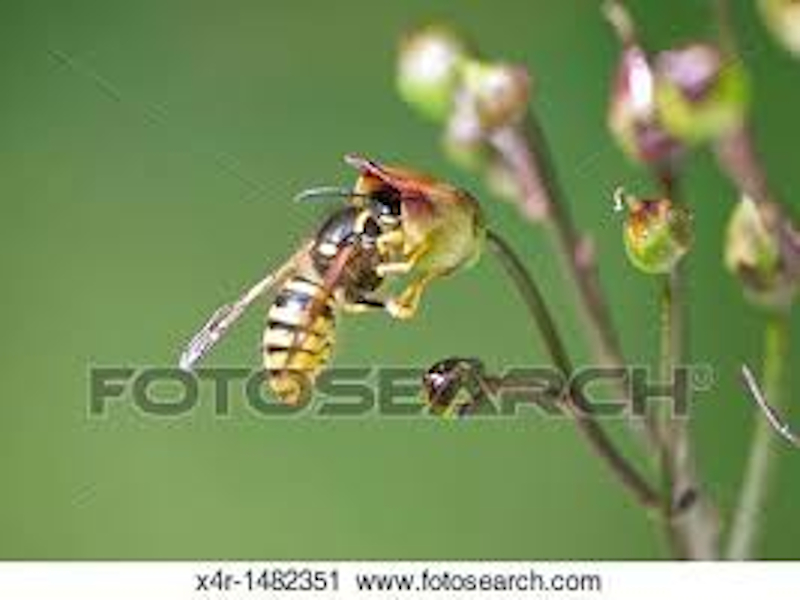chax: (178, 140, 503, 432)
